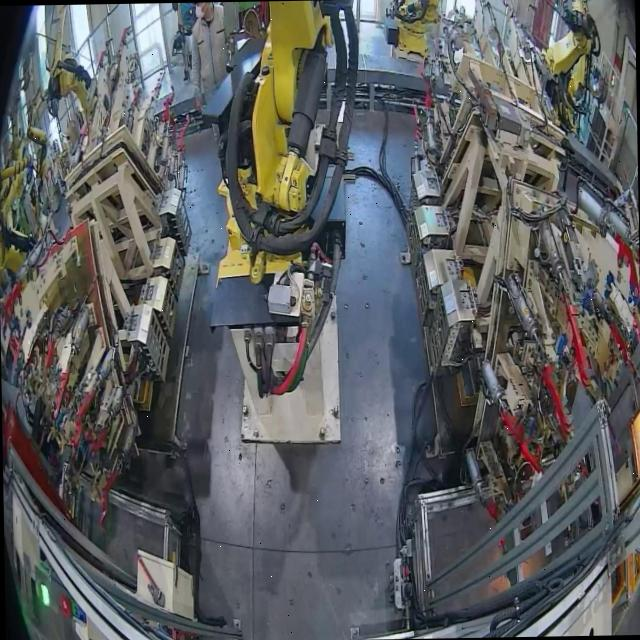Person: (189, 2, 234, 113)
